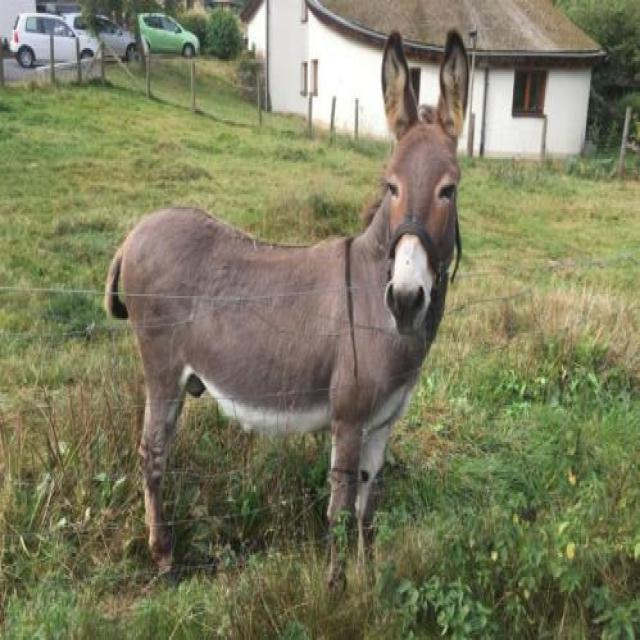Donkey: (104, 32, 476, 591)
